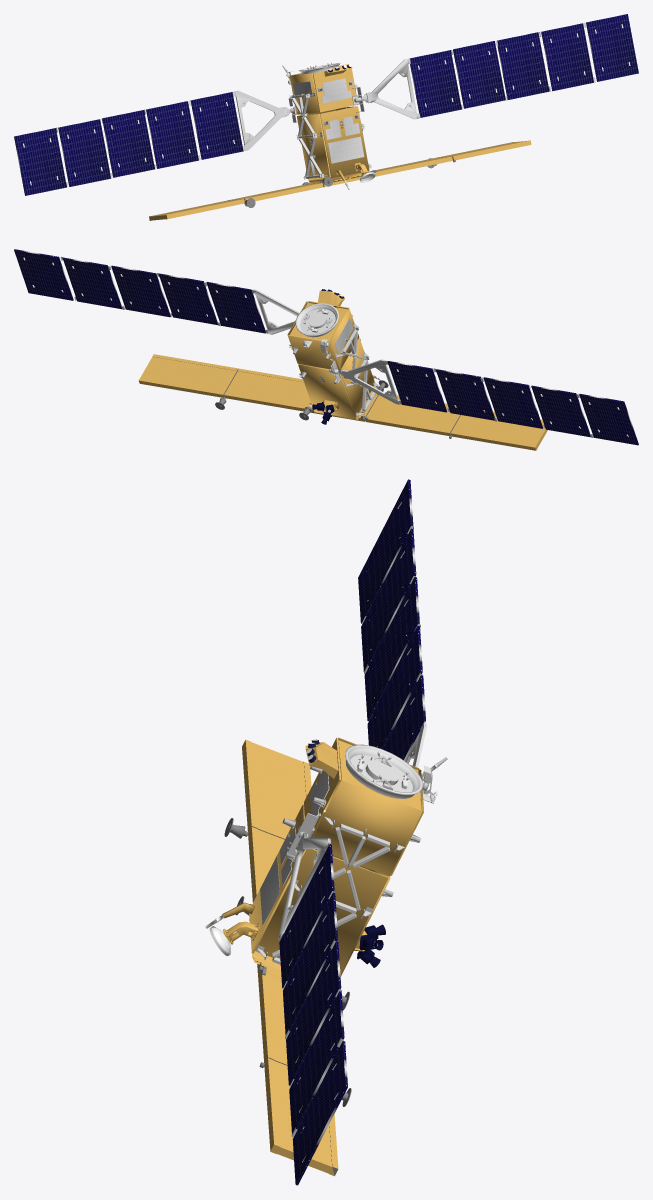
File: sentinel.gltf
3 views of the same model, one above another, from view 1: azimuth 30°, elevation 25°; view 2: azimuth 150°, elevation 25°; view 3: azimuth 270°, elevation 25° (orthographic). The views are drawn at different scales.
Parts seen in each view (by area): view 1: PANEL.002, PANEL.001, HUSK, S1, OUTSIDE PANELS, SAT RIBS; view 2: PANEL.001, PANEL.002, S1, HUSK, PLATE.001, SAT RIBS, SOLAR DETECTOR, TRI CAM; view 3: PANEL.002, PANEL.001, HUSK, S1, PLATE.001, SAT RIBS, OUTSIDE PANELS.
Boxes of the visible parts, x1,y1,x2,y2 form: PANEL.002: (354,14,638,119); PANEL.001: (14,90,293,195); HUSK: (289,68,369,183); S1: (149,140,531,220); OUTSIDE PANELS: (293,78,364,163); SAT RIBS: (289,84,371,179); PANEL.001: (329,359,638,445); PANEL.002: (14,249,299,334); S1: (138,354,547,450); HUSK: (287,301,374,419); PLATE.001: (295,303,338,337); SAT RIBS: (289,323,379,416); SOLAR DETECTOR: (318,289,344,307); TRI CAM: (312,400,338,424); PANEL.002: (278,826,347,1185); PANEL.001: (358,479,426,767); HUSK: (249,737,423,976); S1: (224,739,351,1176); PLATE.001: (345,744,422,798); SAT RIBS: (255,816,404,964); OUTSIDE PANELS: (260,770,329,925).
Size of the model in its own units: 568 by 120 by 99.64.
20 materials, 8 textured.
